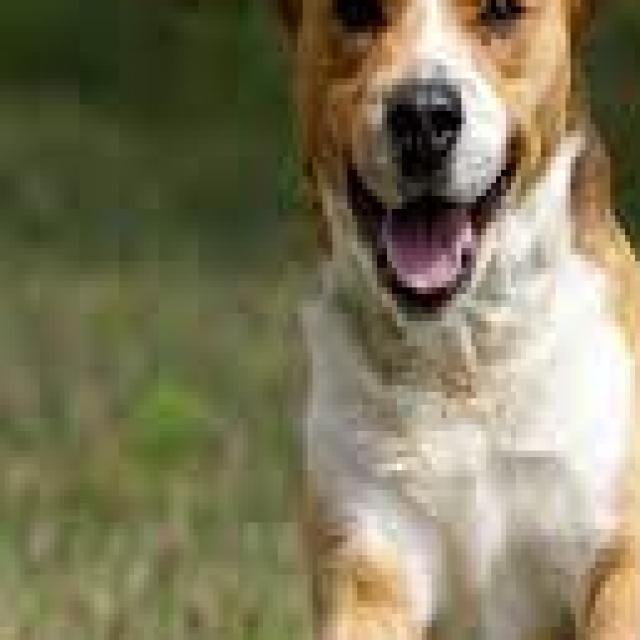dog: (64, 0, 640, 640)
